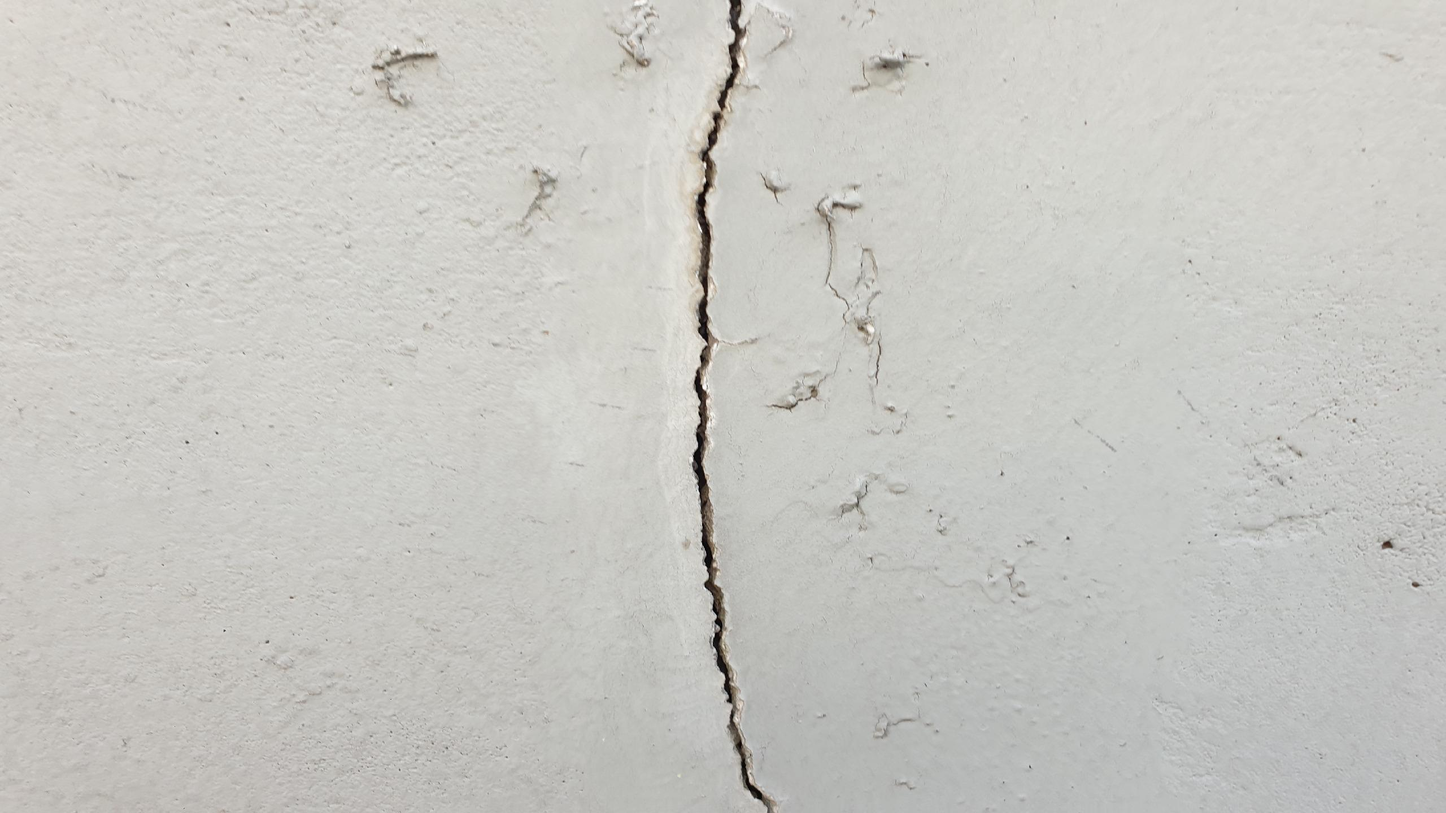crack: (687, 3, 785, 812)
